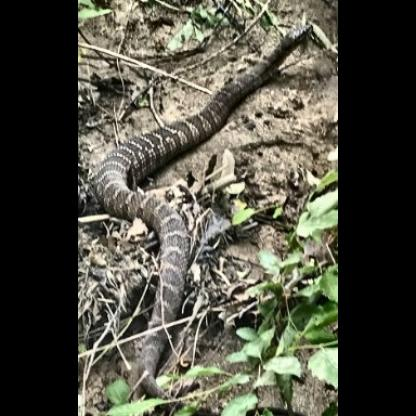Snake: (89, 0, 315, 239)
